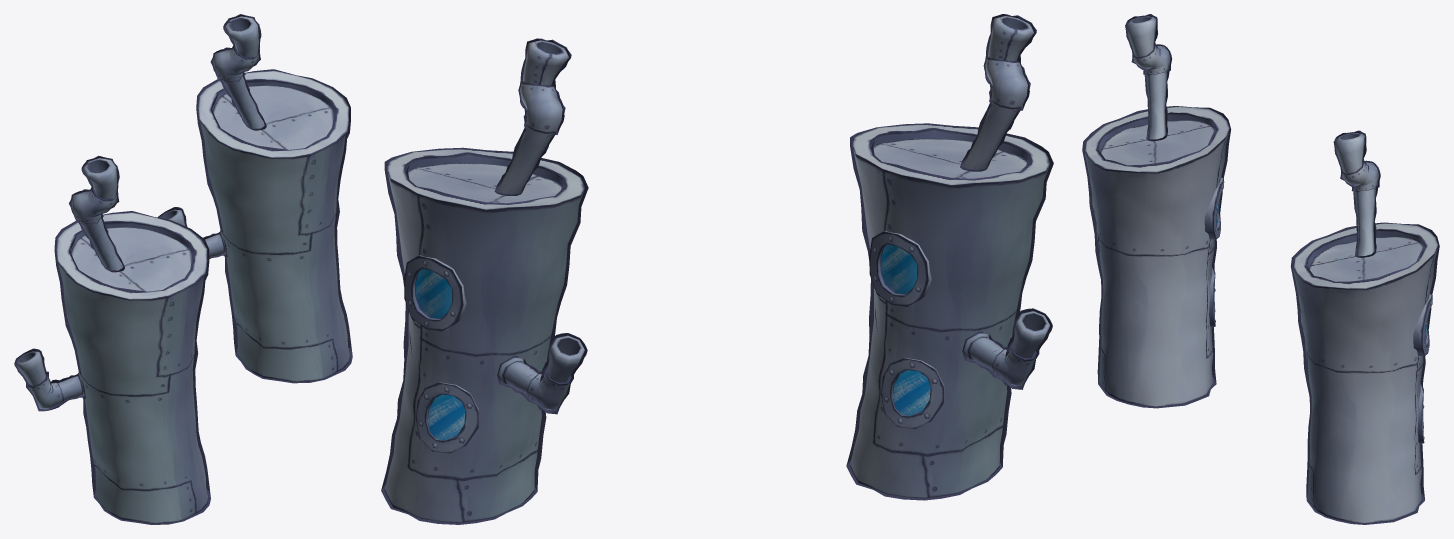
3 renders of one model, left to right at view 1: azimuth 30°, elevation 25°; view 2: azimuth 150°, elevation 25°; view 3: azimuth 270°, elevation 25°, orthographic. The views are drawn at different scales.
Visible parts, largest first — view 1: Object_4; view 2: Object_4; view 3: Object_4.
Boxes of the visible parts, x1,y1,x2,y2 form: Object_4: [14, 14, 352, 524]; Object_4: [381, 14, 1053, 524]; Object_4: [1082, 14, 1439, 524].
Bounding box in the file's own units: 52.57 × 42.79 × 40.71.
1 material, 1 textured.
